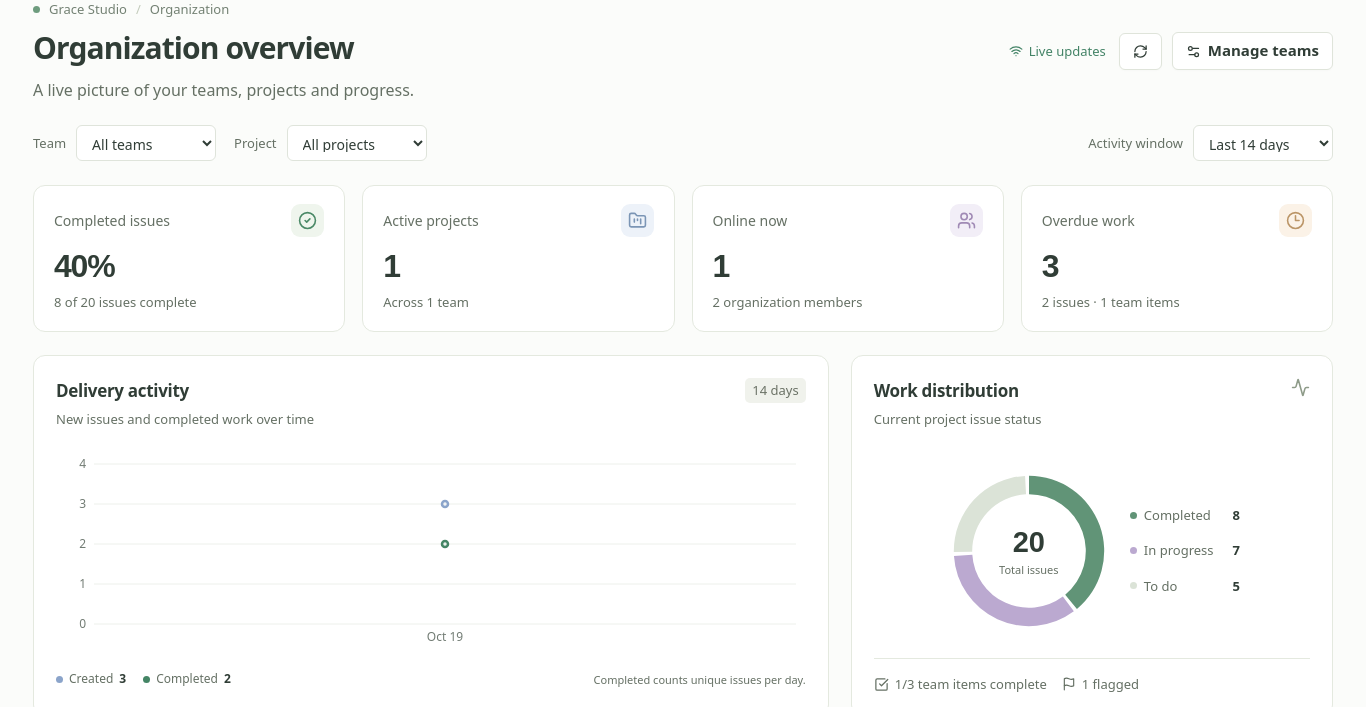
Test case: refreshes Home and loads earlier activity with the server cursor
Click the button named "Refresh overview".
click(1140, 51)  # box [1119,32,1162,70]
(page scrolled)
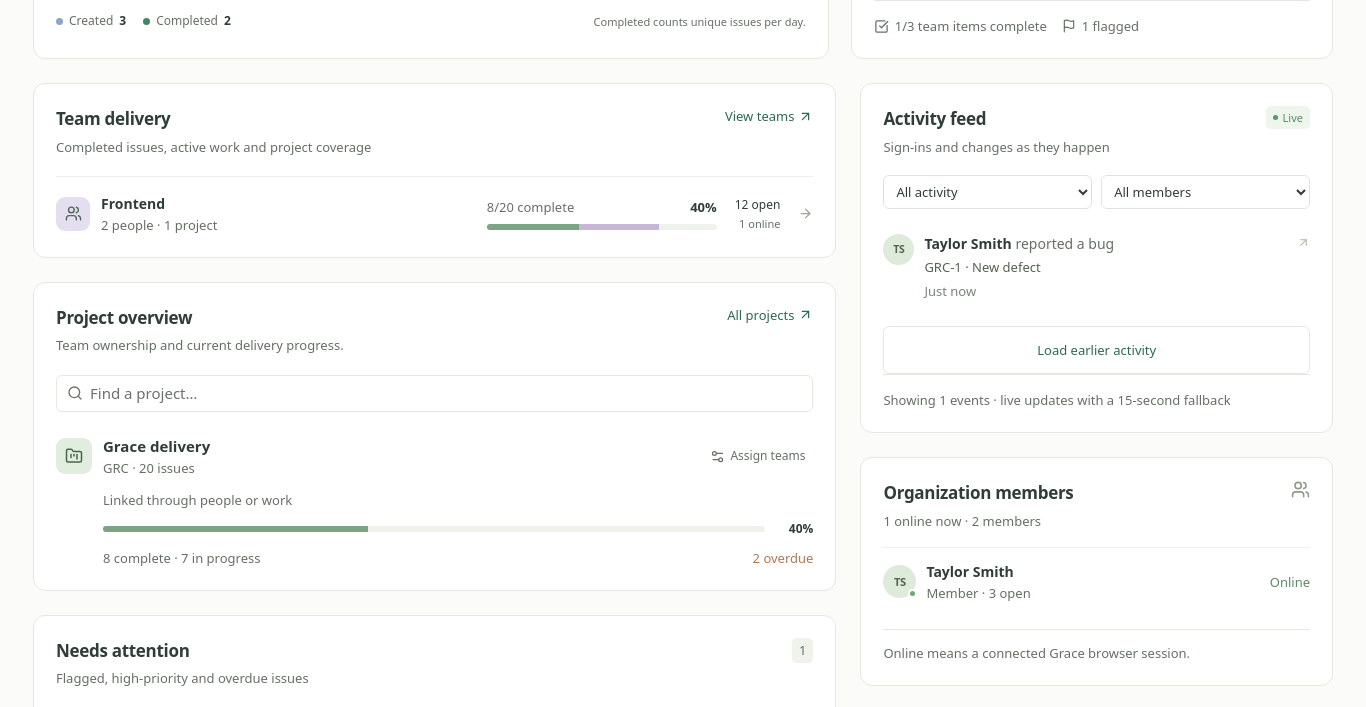
Click the button with class "home-load-more".
click(1097, 350)  # box [883,326,1310,374]
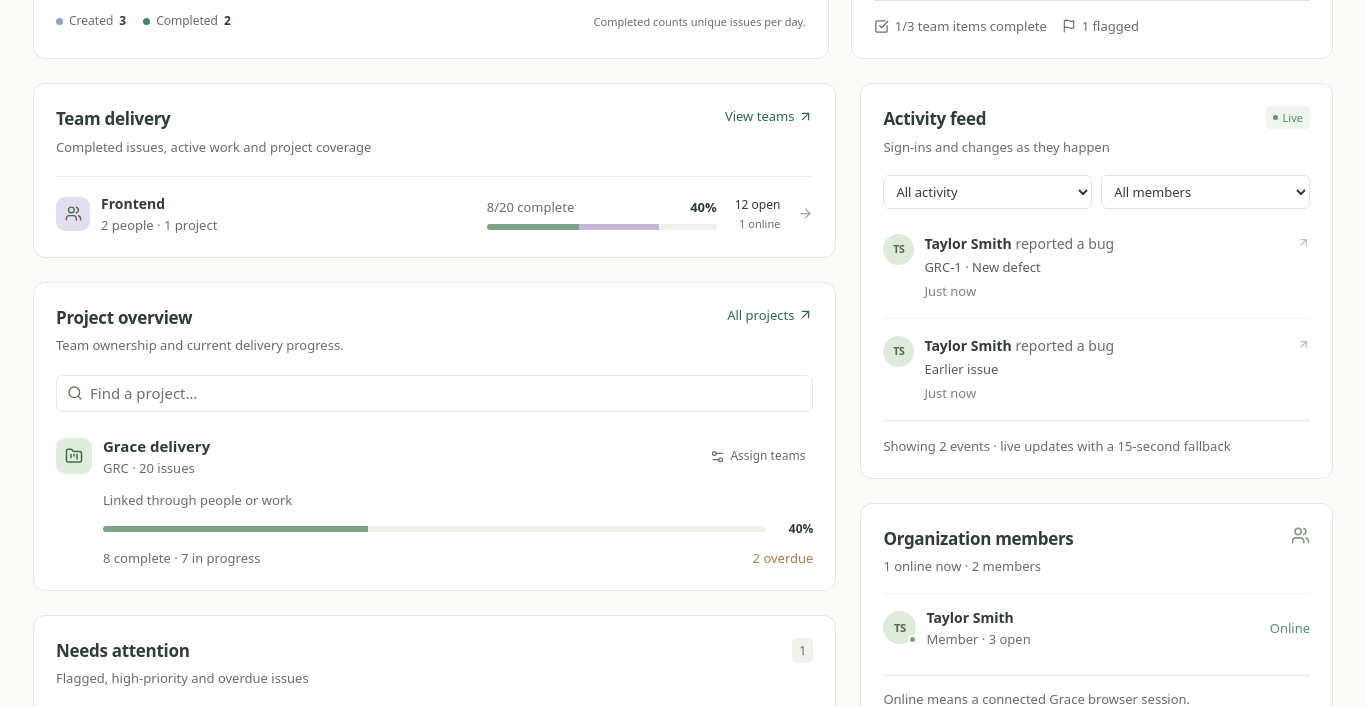
Expected: the text "Earlier issue" is shown, [924,360,998,378]
Expected: the number of buttons with class "home-feed-event" is 2, [883,217,1310,319]; [883,319,1310,420]
Expected: the button with class "home-load-more" is gone
